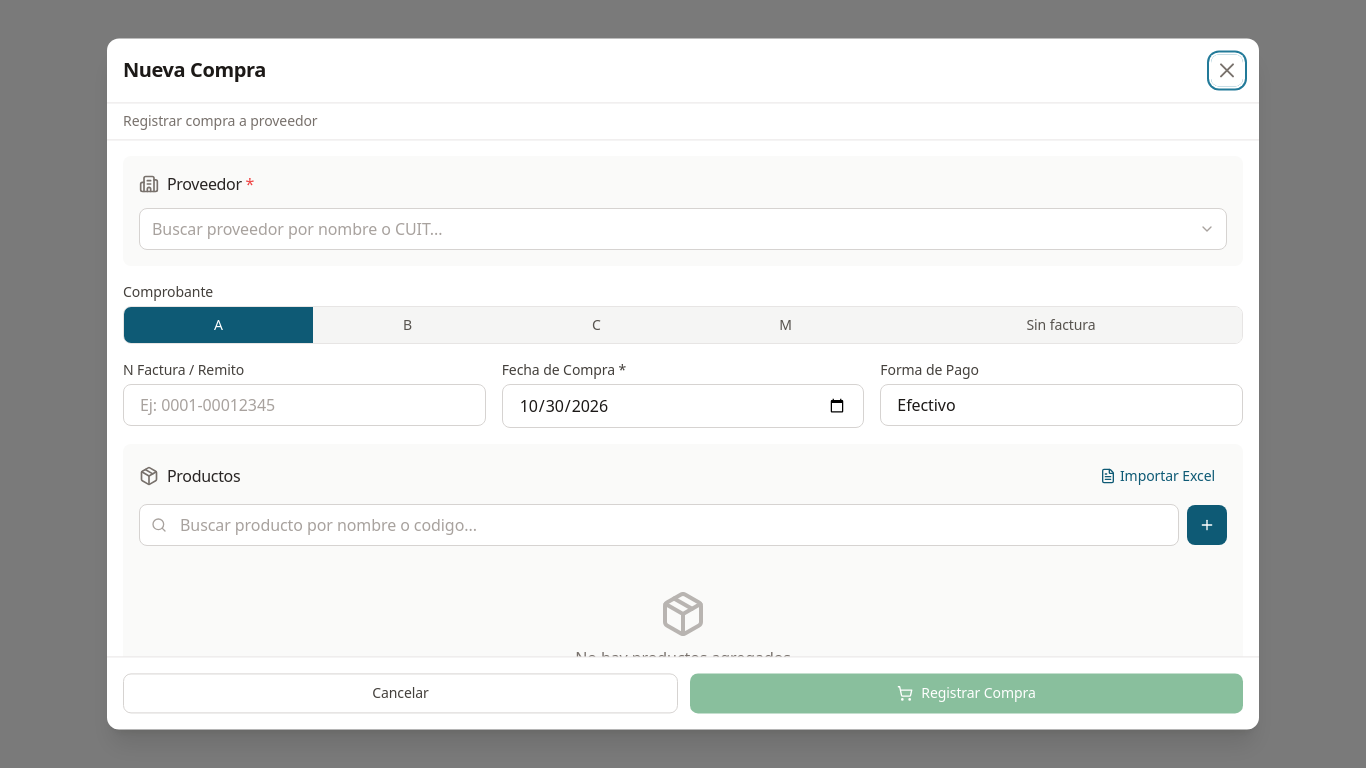
ModalCompra — esqueleto del formulario › mig 293: factura B — sin IVA ni control (cuesta lo pagado) pero con percepciones, y avisa
The image size is (1366, 768).
Click the field with placeholder "Buscar producto por nombre o codigo...".
click(659, 525)  # box [139,504,1179,546]
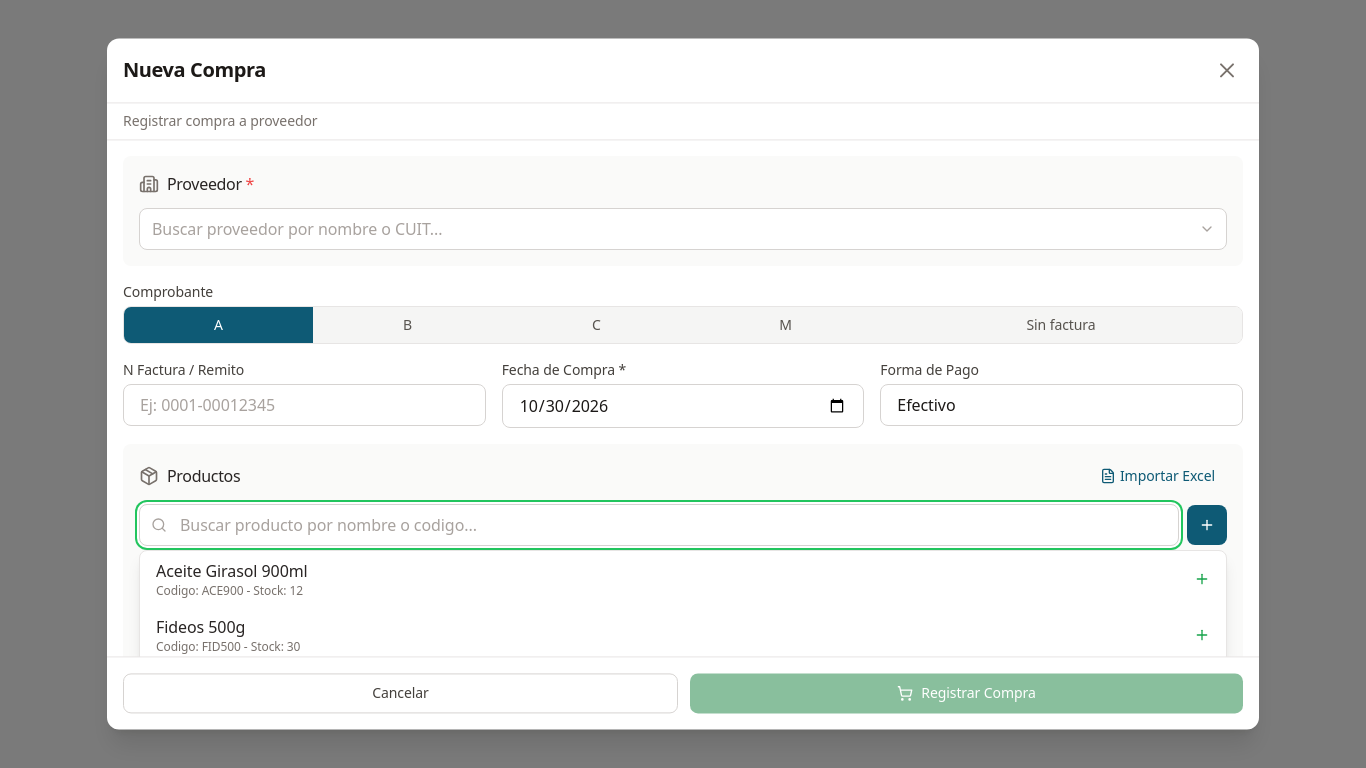
Click the button "Aceite Girasol 900ml Codigo: ACE900 - Stock: 12".
click(232, 571)  # box [140,551,1226,607]
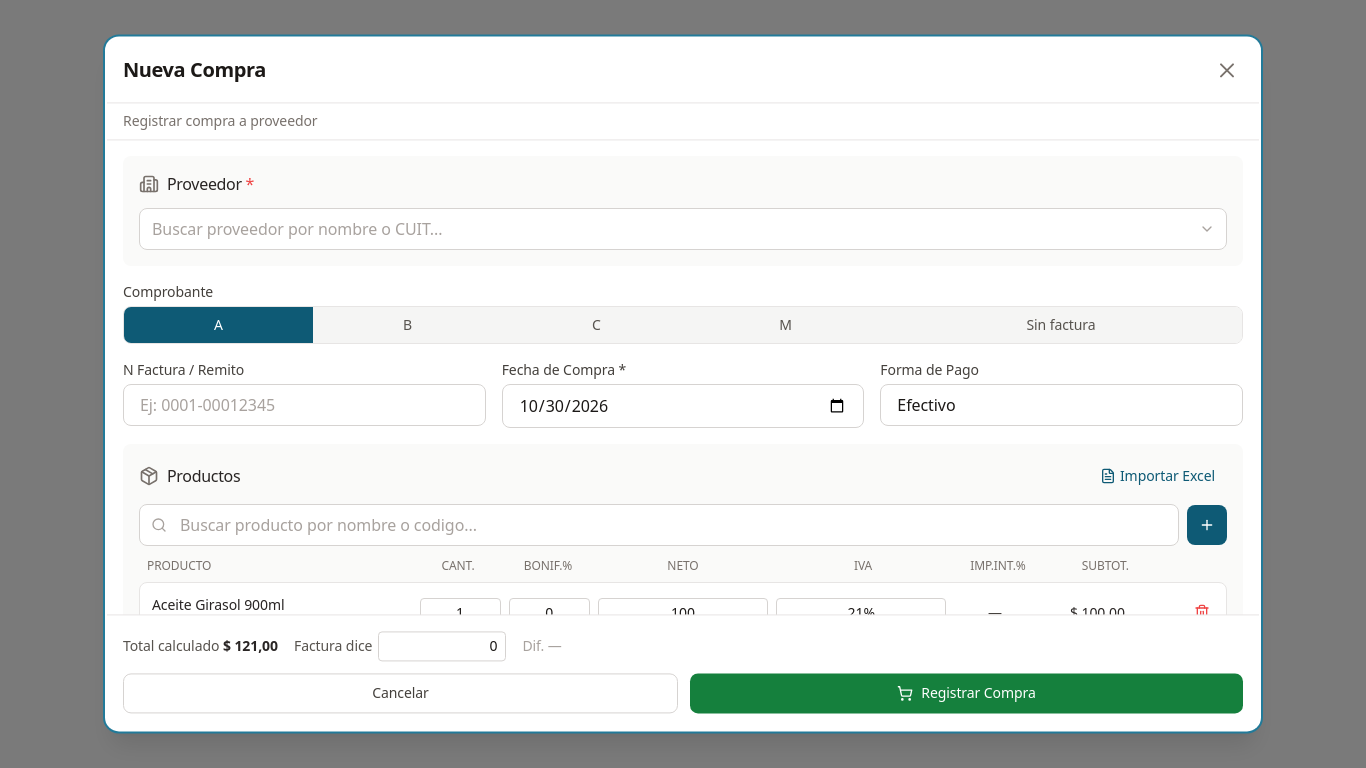
Click the radio button named "Factura B".
click(408, 325)  # box [313,307,502,343]
(page scrolled)
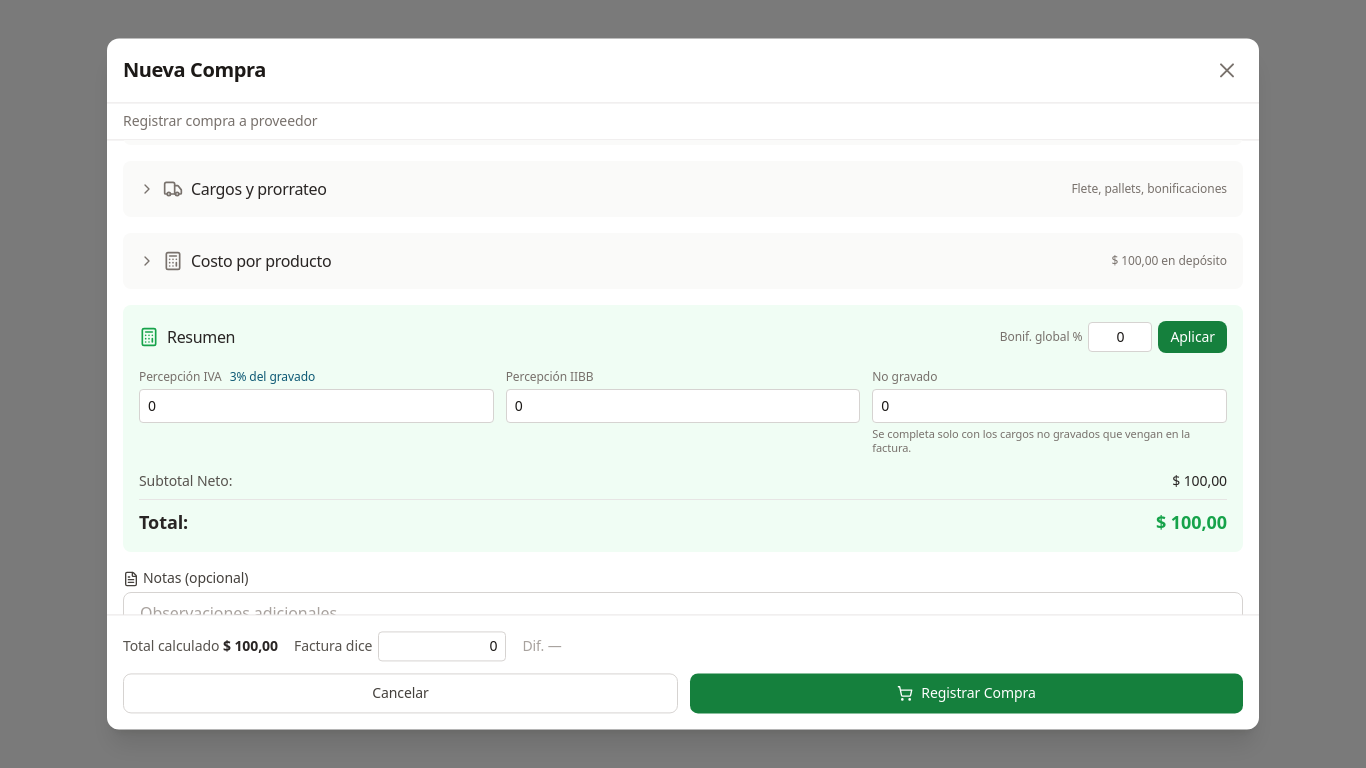
Expected: the text "Subtotal Neto:" is shown, [139,471,232,491]
Expected: the text "Percepción IIBB" is shown, [506,368,594,385]
